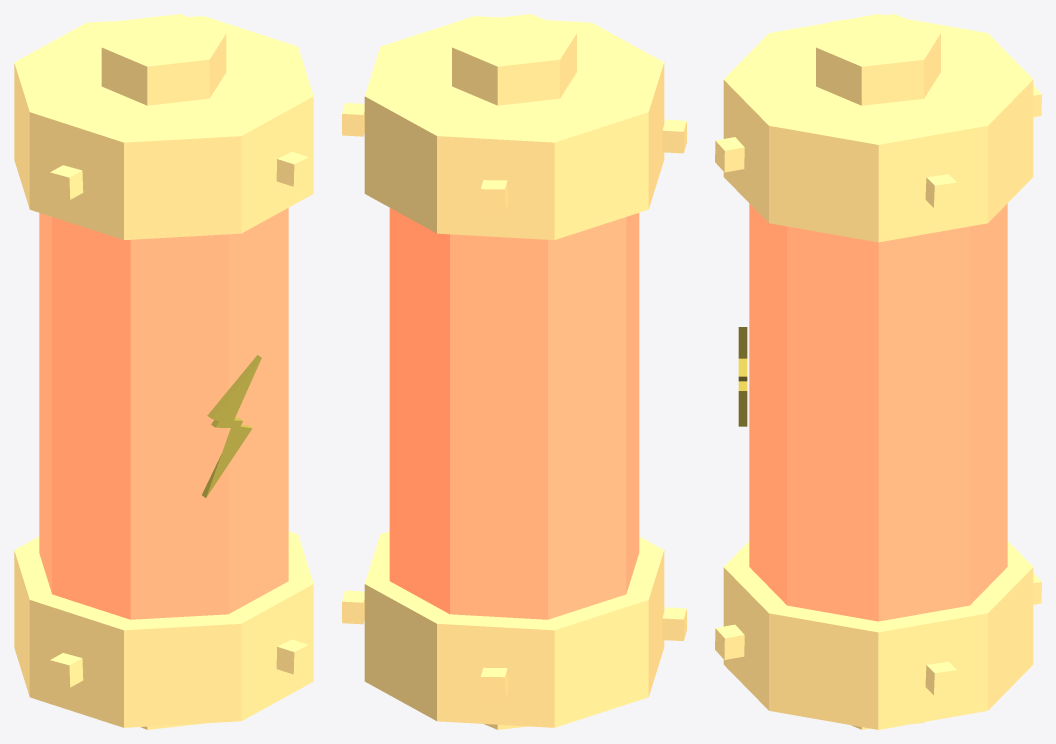
The model's file is Refaccion_Fusible.glb.
3 views of the same model, side by side, from view 1: azimuth 30°, elevation 25°; view 2: azimuth 150°, elevation 25°; view 3: azimuth 270°, elevation 25° (orthographic).
Parts seen in each view (by area): view 1: Refaccion_Fusible; view 2: Refaccion_Fusible; view 3: Refaccion_Fusible.
Part boxes in pixels (<box>): Refaccion_Fusible: <box>14,14,313,729</box>; Refaccion_Fusible: <box>342,14,686,729</box>; Refaccion_Fusible: <box>715,14,1041,729</box>.
Size of the model in its own units: 0.152 by 0.34 by 0.152.
